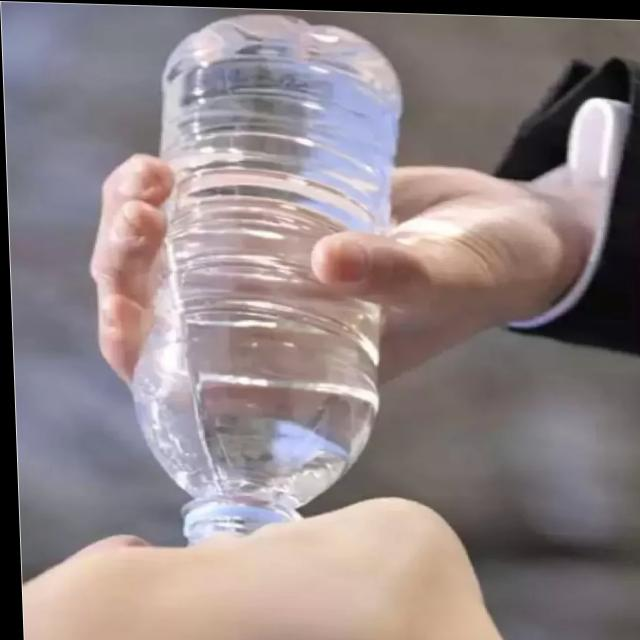bottle: (125, 9, 406, 558)
